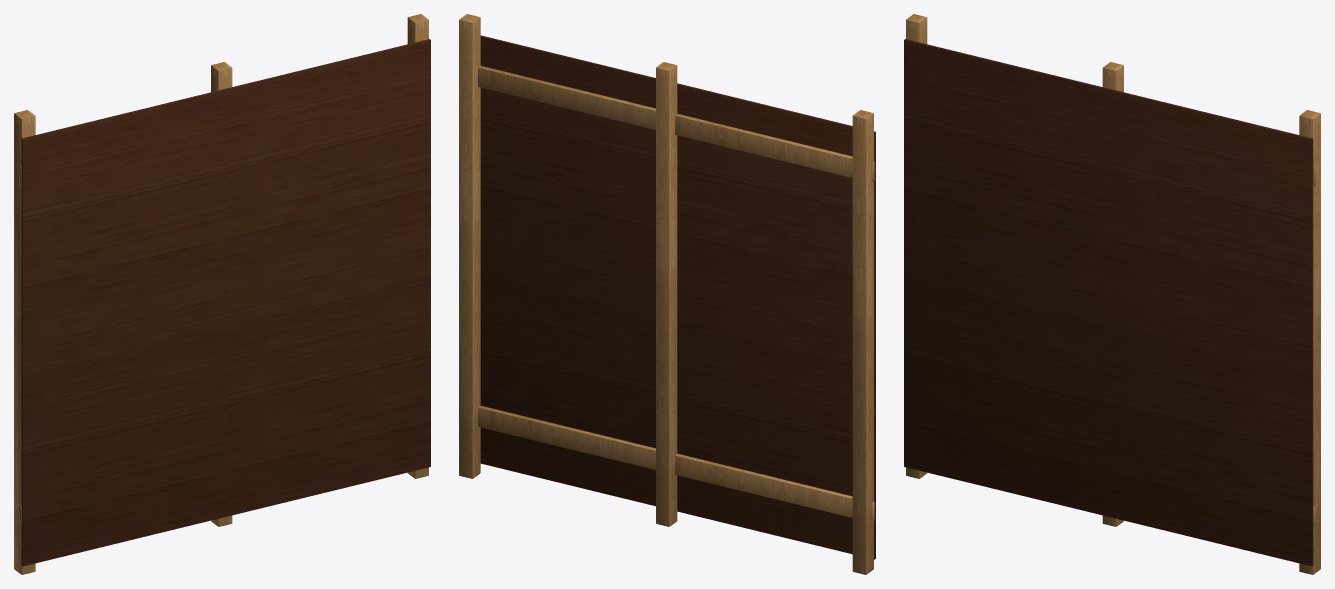
The model's file is SER-TAP-001_lod1.glb.
3 renders of one model, left to right at view 1: azimuth 30°, elevation 25°; view 2: azimuth 150°, elevation 25°; view 3: azimuth 330°, elevation 25°, orthographic.
Visible parts, largest first — view 1: SER-TAP-001_chapa, SER-TAP-001_pontalete0, SER-TAP-001_pontalete1, SER-TAP-001_pontalete2; view 2: SER-TAP-001_chapa, SER-TAP-001_pontalete0, SER-TAP-001_pontalete2, SER-TAP-001_pontalete1, SER-TAP-001_sarrafo0, SER-TAP-001_sarrafo1; view 3: SER-TAP-001_chapa, SER-TAP-001_pontalete2, SER-TAP-001_pontalete0, SER-TAP-001_pontalete1.
Part boxes in pixels (bbox=[...]): SER-TAP-001_chapa: bbox=[21, 39, 430, 566]; SER-TAP-001_pontalete0: bbox=[14, 110, 35, 574]; SER-TAP-001_pontalete1: bbox=[211, 62, 232, 526]; SER-TAP-001_pontalete2: bbox=[407, 14, 428, 478]; SER-TAP-001_chapa: bbox=[480, 35, 875, 559]; SER-TAP-001_pontalete0: bbox=[852, 110, 873, 574]; SER-TAP-001_pontalete2: bbox=[459, 14, 480, 478]; SER-TAP-001_pontalete1: bbox=[656, 62, 677, 526]; SER-TAP-001_sarrafo0: bbox=[478, 405, 874, 522]; SER-TAP-001_sarrafo1: bbox=[478, 65, 874, 182]; SER-TAP-001_chapa: bbox=[904, 39, 1313, 566]; SER-TAP-001_pontalete2: bbox=[1299, 110, 1320, 574]; SER-TAP-001_pontalete0: bbox=[906, 14, 927, 478]; SER-TAP-001_pontalete1: bbox=[1102, 62, 1123, 526].
Bounding box in the file's own units: 2.2 × 2.35 × 0.087.
2 materials, 2 textured.
